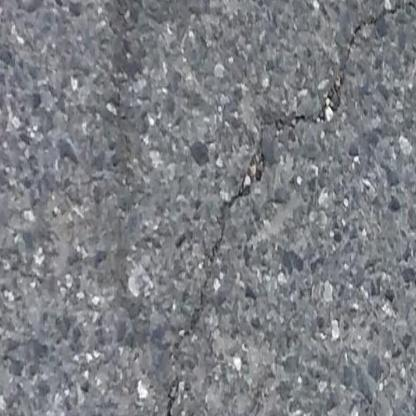Cracks: (157, 140, 271, 416), (261, 0, 416, 139), (111, 0, 136, 125)
